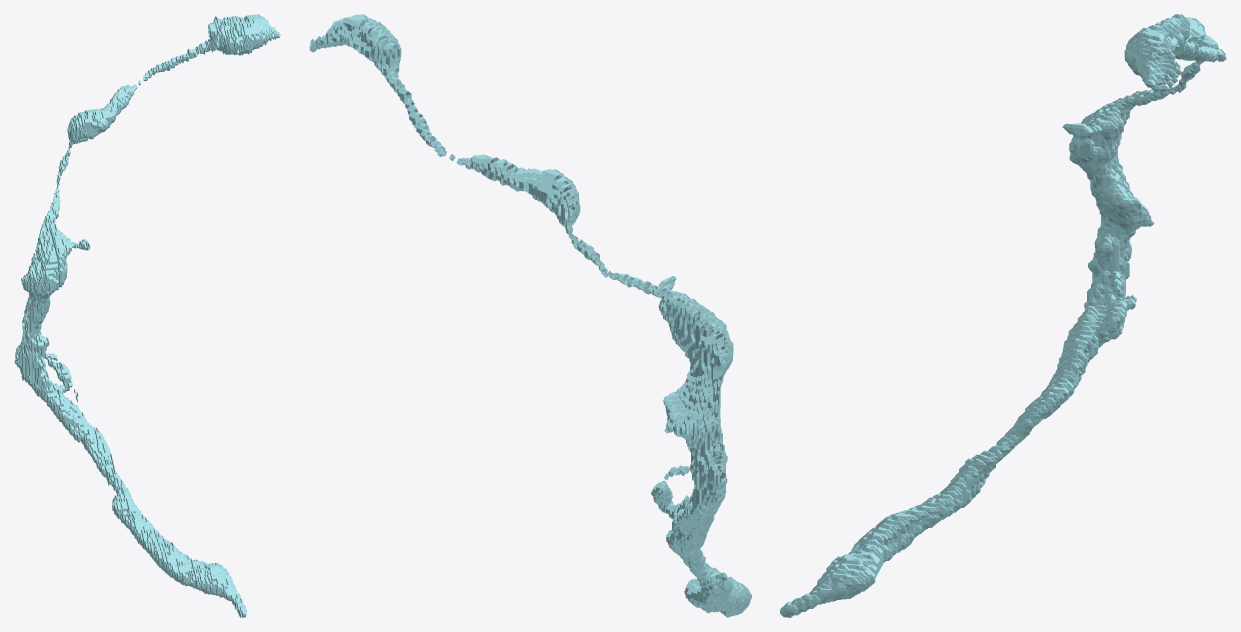
File: SVV_ADLL.gltf
The picture shows the model from 3 angles, left to right: view 1: azimuth 30°, elevation 25°; view 2: azimuth 150°, elevation 25°; view 3: azimuth 270°, elevation 25°; orthographic projection. The views are drawn at different scales.
Visible parts, largest first — view 1: ADLL; view 2: ADLL; view 3: ADLL.
Boxes of the visible parts, box(x1,y1,x2,y2) form: ADLL: box(14, 14, 280, 617); ADLL: box(309, 14, 751, 617); ADLL: box(780, 14, 1226, 617).
Bounding box in the file's own units: 82562 × 134557 × 80261.
